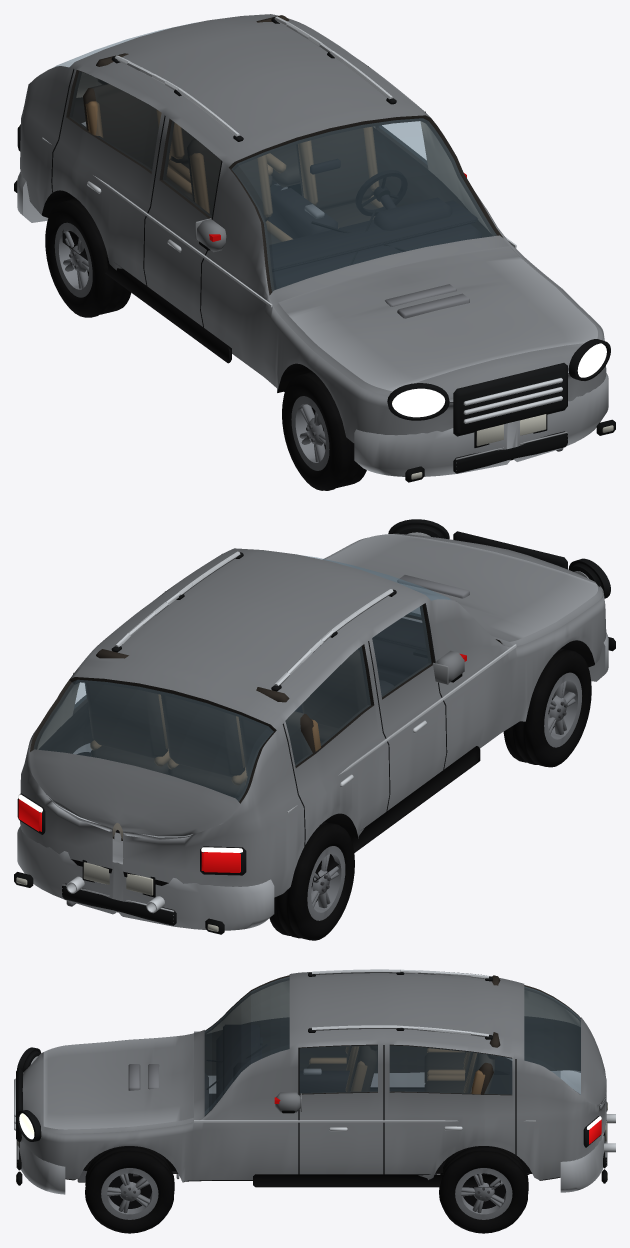
File: glug_2017.glb
3 renders of one model, top to bottom at view 1: azimuth 30°, elevation 25°; view 2: azimuth 150°, elevation 25°; view 3: azimuth 270°, elevation 25°, orthographic. The views are drawn at different scales.
Parts seen in each view (by area): view 1: body, glass, interior, bonnet, trim, bumper_front, wheel_fr, wheel_rr, chrome, underside, headlight_r, mirror_r (+2 smaller); view 2: body, glass, interior, bonnet, bumper_rear, trim, wheel_fr, wheel_rr, chrome, underside, taillights, mirror_r (+1 smaller); view 3: body, glass, interior, bonnet, trim, wheel_fl, wheel_rl, chrome, bumper_rear, underside, bumper_front, mirror_l.
Boxes of the visible parts, x1=… form: body: x1=20, y1=14, x2=606, y2=442; glass: x1=53, y1=22, x2=496, y2=291; interior: x1=72, y1=15, x2=492, y2=289; bonnet: x1=278, y1=246, x2=597, y2=391; trim: x1=17, y1=66, x2=610, y2=436; bumper_front: x1=354, y1=373, x2=615, y2=482; wheel_fr: x1=282, y1=371, x2=366, y2=490; wheel_rr: x1=45, y1=198, x2=131, y2=317; chrome: x1=42, y1=16, x2=562, y2=423; underside: x1=42, y1=183, x2=563, y2=451; headlight_r: x1=392, y1=388, x2=445, y2=417; mirror_r: x1=195, y1=218, x2=226, y2=252; body: x1=20, y1=533, x2=606, y2=897; glass: x1=34, y1=555, x2=450, y2=801; interior: x1=37, y1=616, x2=428, y2=840; bonnet: x1=325, y1=534, x2=597, y2=641; bumper_rear: x1=14, y1=826, x2=274, y2=934; trim: x1=17, y1=519, x2=610, y2=881; wheel_fr: x1=503, y1=648, x2=591, y2=767; wheel_rr: x1=269, y1=822, x2=354, y2=940; chrome: x1=66, y1=551, x2=516, y2=913; underside: x1=66, y1=575, x2=594, y2=906; taillights: x1=18, y1=794, x2=242, y2=872; mirror_r: x1=432, y1=650, x2=466, y2=684; body: x1=21, y1=971, x2=606, y2=1182; glass: x1=204, y1=977, x2=580, y2=1115; interior: x1=204, y1=975, x2=580, y2=1172; bonnet: x1=43, y1=1033, x2=193, y2=1129; trim: x1=16, y1=975, x2=600, y2=1187; wheel_fl: x1=85, y1=1146, x2=174, y2=1233; wheel_rl: x1=439, y1=1147, x2=528, y2=1233; chrome: x1=14, y1=969, x2=615, y2=1152; bumper_rear: x1=560, y1=1070, x2=607, y2=1192; underside: x1=65, y1=1056, x2=606, y2=1182; bumper_front: x1=16, y1=1138, x2=65, y2=1194; mirror_l: x1=274, y1=1092, x2=301, y2=1113.
Size of the model in its own units: 1.94 by 1.84 by 5.24.
